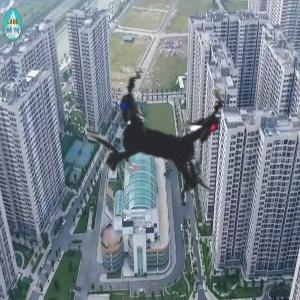drone: (31, 14, 283, 266)
